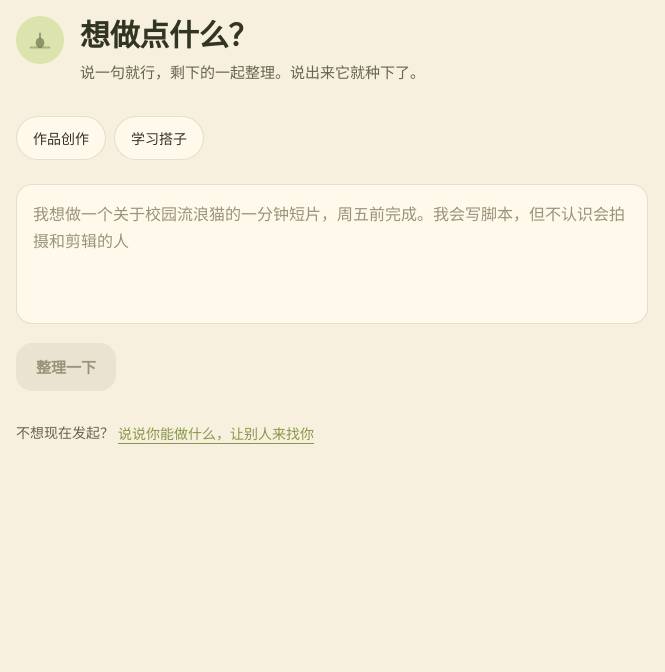
Test: 整理出来的卡片 › 读不懂时明说是猜的，并让人直接改
The width and height of the screenshot is (665, 672).
Click the button "作品创作".
click(61, 138)  # box [16,116,106,160]
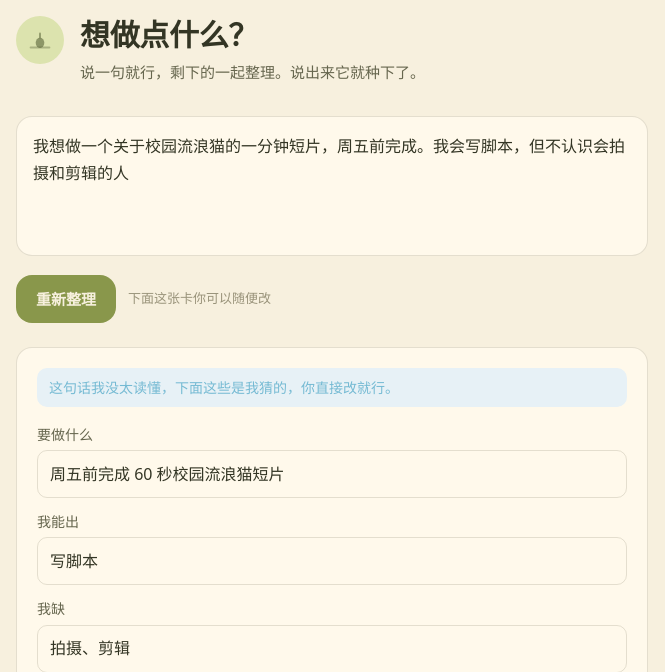
Now the text "这句话我没太读懂，下面这些是我猜的，你直接改就行。" is shown, box [37,368,627,407]
